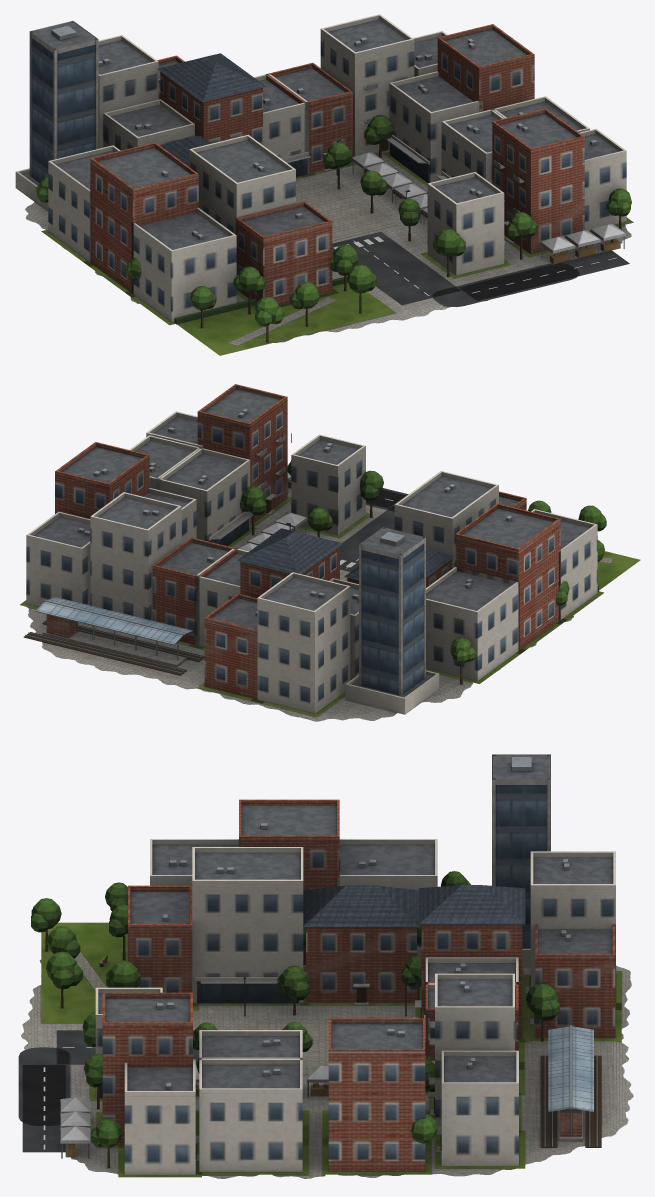
Rendered from modern-town-medium-a.glb.
The picture shows the model from 3 angles, top to bottom: view 1: azimuth 30°, elevation 25°; view 2: azimuth 150°, elevation 25°; view 3: azimuth 270°, elevation 25°; orthographic projection. The views are drawn at different scales.
Visible parts, largest first — view 1: LOD0; view 2: LOD0; view 3: LOD0.
Part boxes in pixels (bbox=[...]): LOD0: bbox=[15, 14, 633, 355]; LOD0: bbox=[20, 384, 640, 721]; LOD0: bbox=[18, 754, 633, 1178].
Size of what is drawn, in the model's own units: 6.03 by 2.12 by 6.07.
3 materials, 3 textured.
